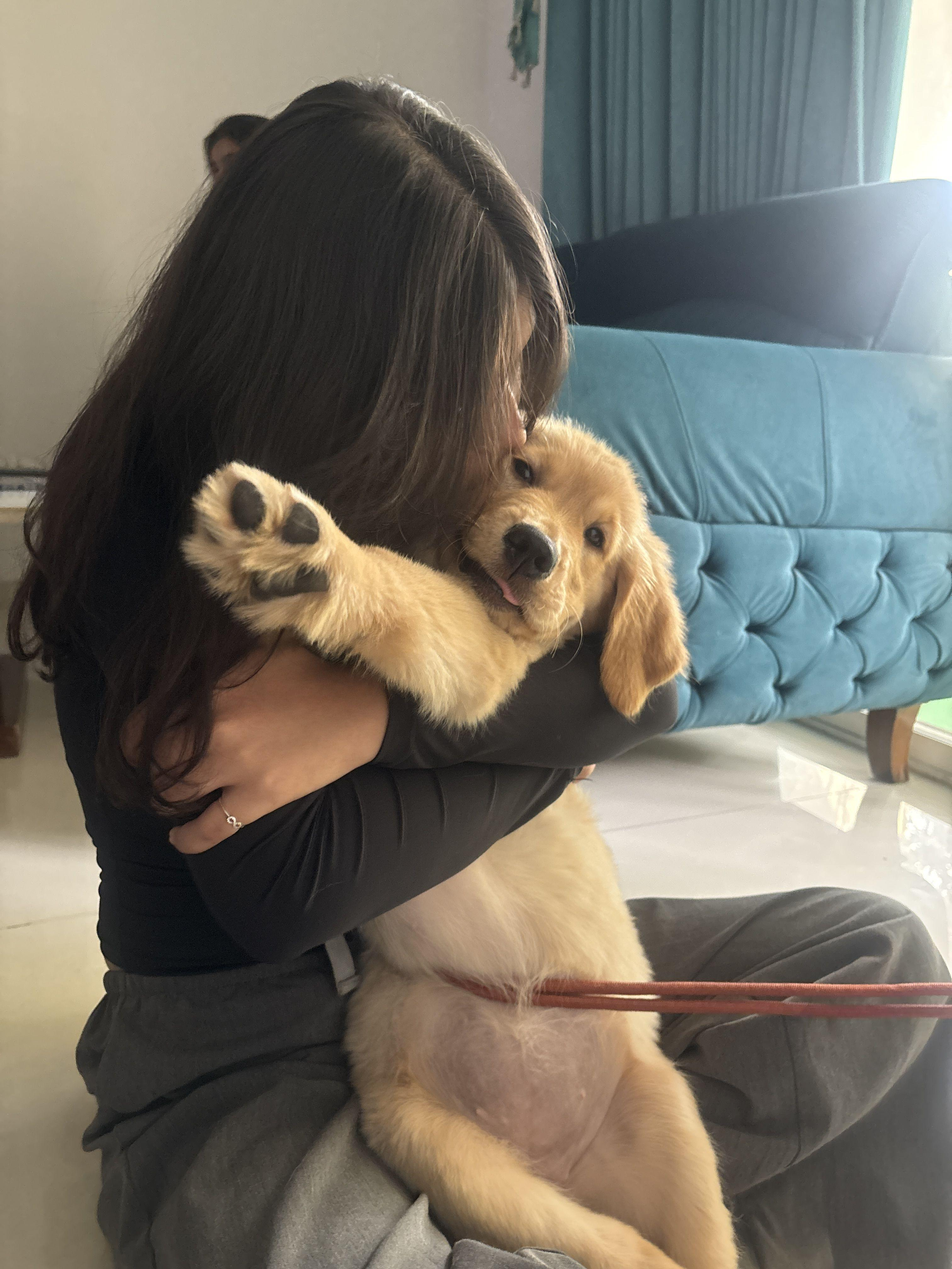non-dog: (6, 72, 952, 1268)
puppy-dog: (178, 417, 744, 1269)
